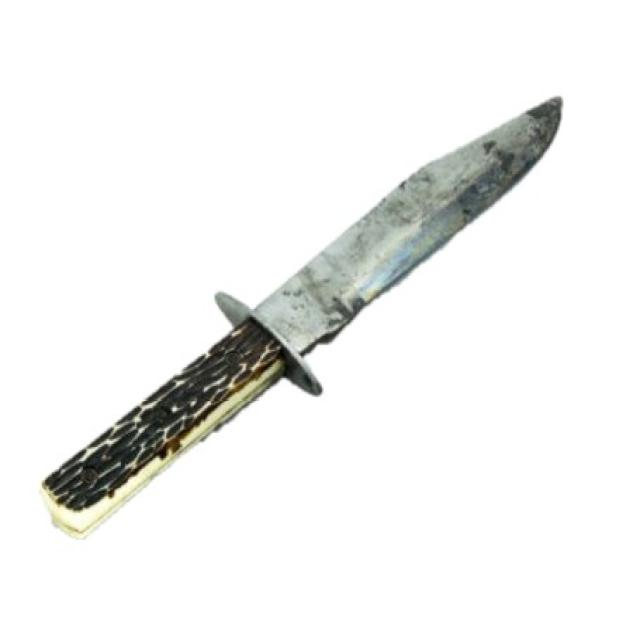knife: (36, 86, 575, 547)
